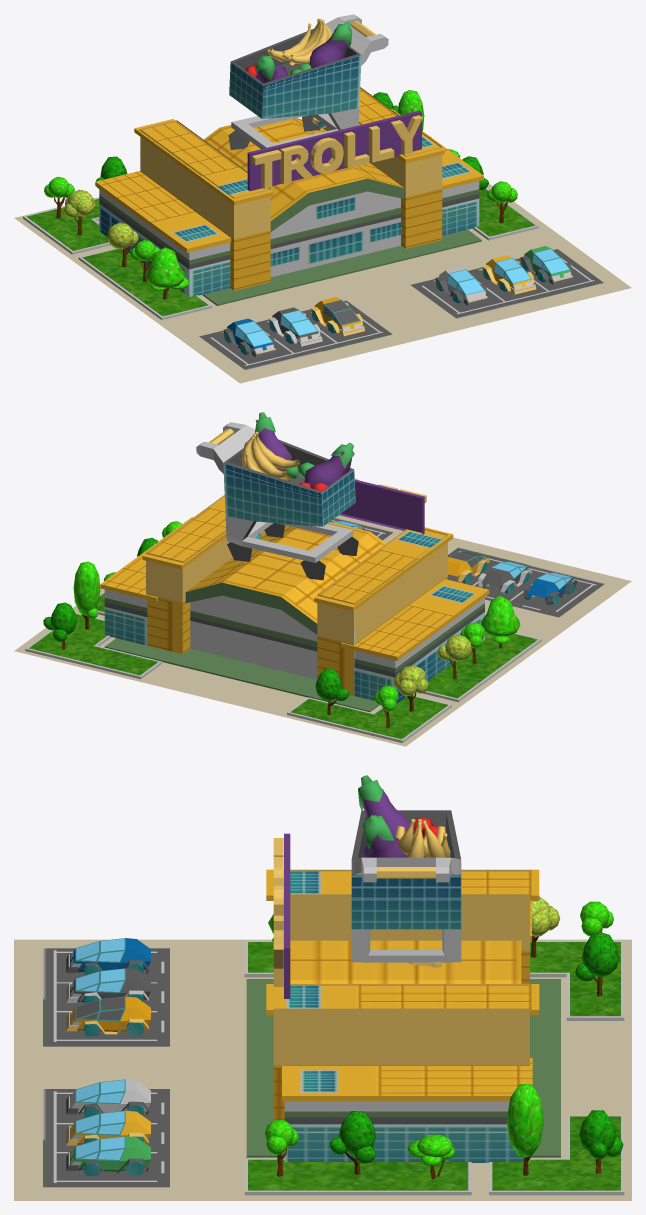
File: grocery_LV2.fbx
3 renders of one model, top to bottom at view 1: azimuth 30°, elevation 25°; view 2: azimuth 150°, elevation 25°; view 3: azimuth 270°, elevation 25°, orthographic. The views are drawn at different scales.
Visible parts, largest first — view 1: GROCERY LEVEL 2; view 2: GROCERY LEVEL 2; view 3: GROCERY LEVEL 2.
Part boxes in pixels (x1,y1,x2,y2): GROCERY LEVEL 2: (14, 14, 631, 383); GROCERY LEVEL 2: (14, 412, 631, 746); GROCERY LEVEL 2: (14, 775, 631, 1200).
Bounding box in the file's own units: 140 × 72.11 × 140.
